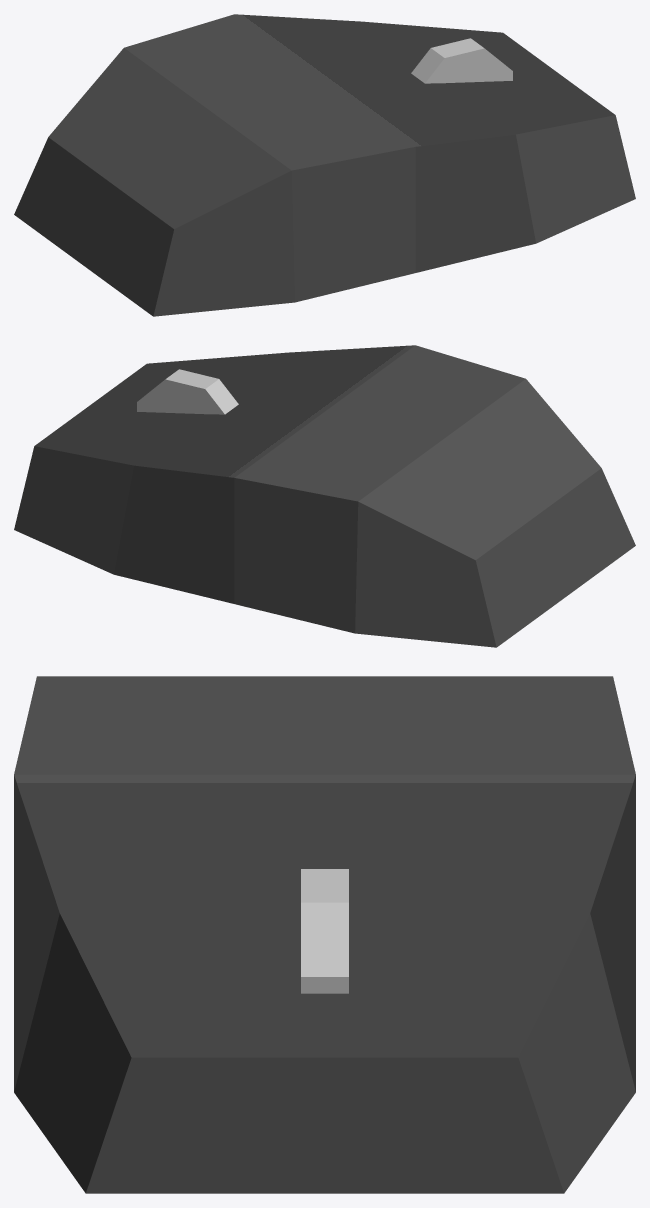
Rendered from mouse.glb.
The picture shows the model from 3 angles, top to bottom: view 1: azimuth 30°, elevation 25°; view 2: azimuth 150°, elevation 25°; view 3: azimuth 270°, elevation 25°; orthographic projection. The views are drawn at different scales.
Parts seen in each view (by area): view 1: cuboid, cylinder; view 2: cuboid, cylinder; view 3: cuboid, cylinder.
Part boxes in pixels (left/top/right/bottom): cuboid: left=14, top=14, right=635, bottom=316; cylinder: left=411, top=38, right=512, bottom=83; cuboid: left=14, top=345, right=635, bottom=647; cylinder: left=137, top=369, right=238, bottom=414; cuboid: left=14, top=676, right=635, bottom=1193; cylinder: left=301, top=869, right=348, bottom=993.
Size of the model in its own units: 0.25 by 0.0625 by 0.1625.
1 material, 1 textured.
